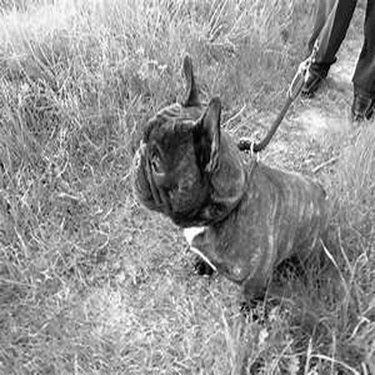dog: (115, 45, 373, 348)
